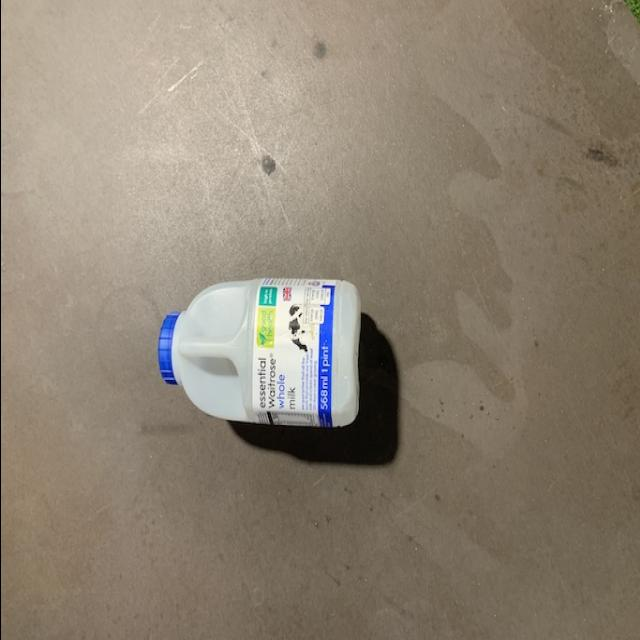litter: (156, 278, 360, 430)
